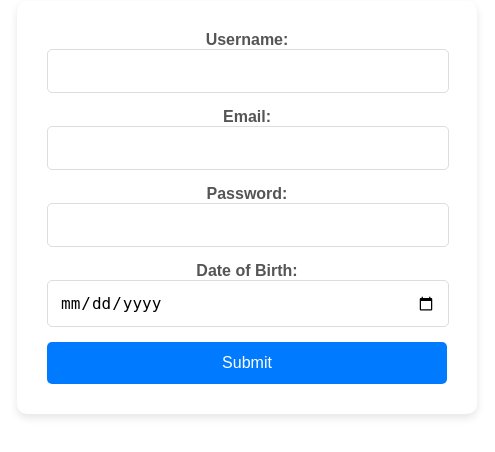
Test: Form validation for empty or invalid data testing › Displays a validation message for an invalid email
The width and height of the screenshot is (495, 452).
Type "Jakefake" into the field with id "username".
click(248, 71); type("Jakefake")  # box [47,49,449,93]
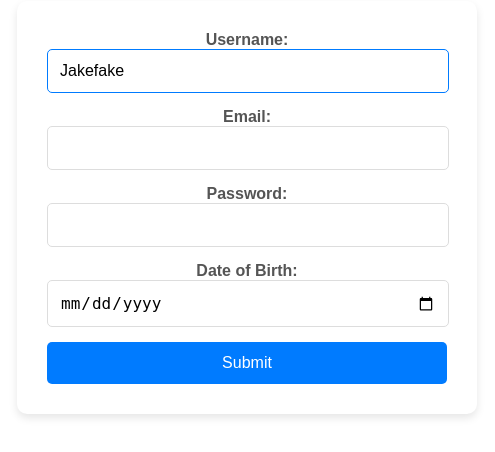
Type "invalid@email" into the field with id "email".
click(248, 148); type("invalid@email")  # box [47,126,449,170]
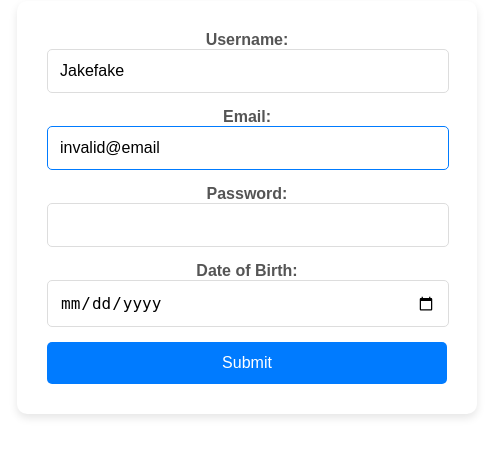
Type "secret" into the password field.
click(248, 225); type("secret")  # box [47,203,449,247]
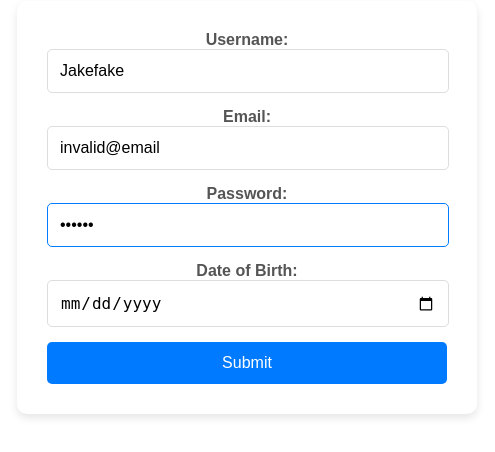
Type "2000-01-02" into the date field with id "dob".
click(248, 304); type("2000-01-02")  # box [47,280,449,327]
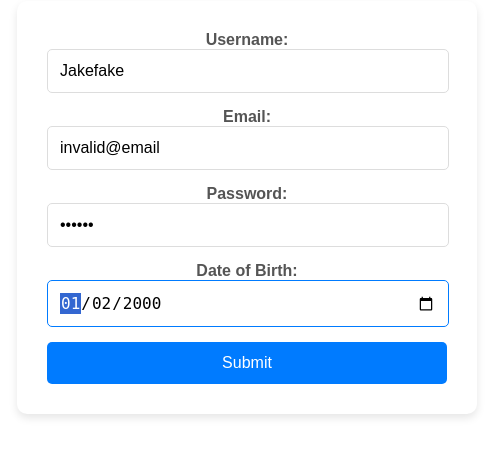
Click the button "Submit".
click(247, 363)  # box [47,342,447,384]
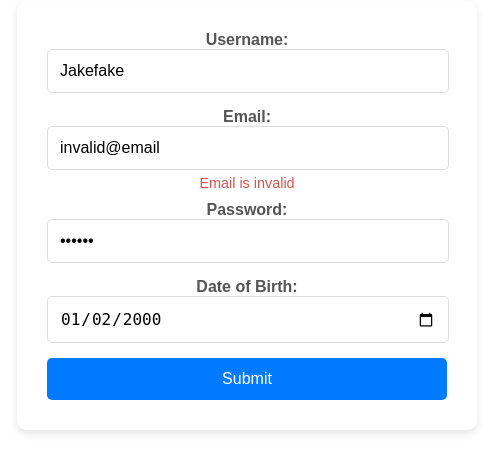
Expected: the text "Email is invalid" is shown, [199,175,295,191]
Expected: the text with class "error" reads "Email is invalid", [199,175,294,191]
